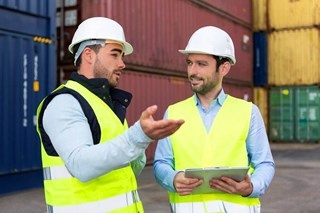helmet: (69, 18, 132, 56), (178, 28, 239, 66)
person with full safety: (36, 17, 150, 212), (154, 26, 272, 211)
safety vest: (41, 81, 146, 213), (166, 91, 257, 212)
